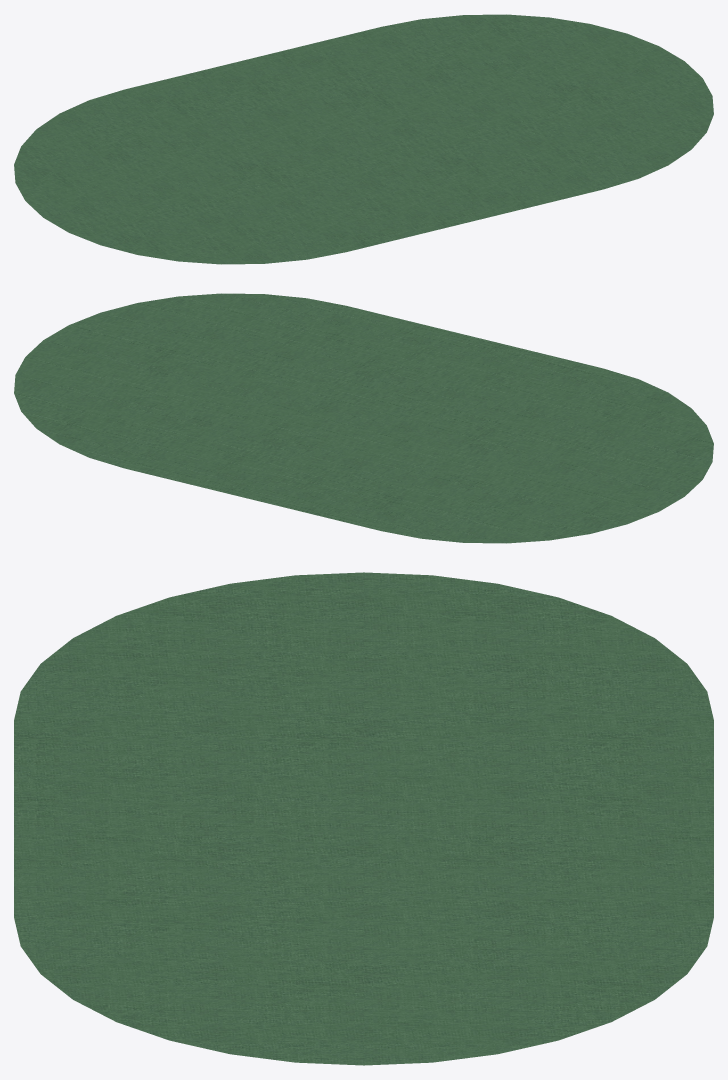
Rendered from table.glb.
3 renders of one model, top to bottom at view 1: azimuth 30°, elevation 25°; view 2: azimuth 150°, elevation 25°; view 3: azimuth 270°, elevation 25°, orthographic. The views are drawn at different scales.
Visible parts, largest first — view 1: Table_4; view 2: Table_4; view 3: Table_4.
Boxes of the visible parts, left/top/right/bottom form: Table_4: left=14, top=14, right=713, bottom=264; Table_4: left=14, top=293, right=713, bottom=543; Table_4: left=14, top=572, right=713, bottom=1065.
Size of the model in its own units: 1 by 1.44e-23 by 0.6.
Materials: 1 (1 with a texture image).
